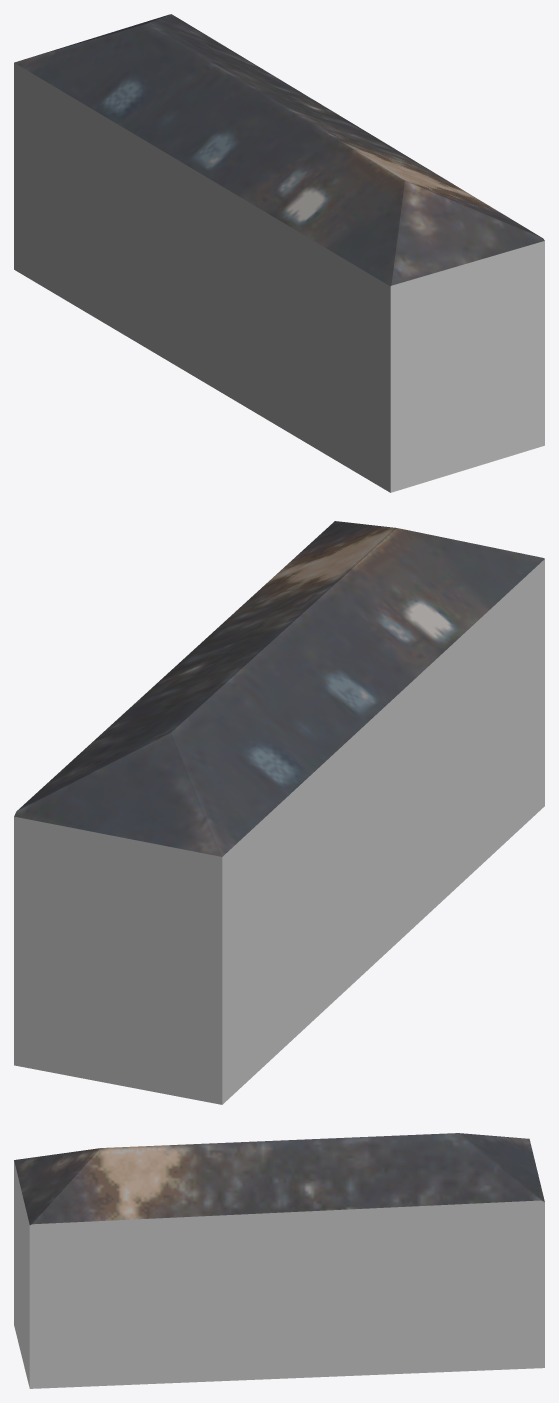
The model's file is DEBW_0010007Tx74.gltf.
3 views of the same model, one above another, from view 1: azimuth 30°, elevation 25°; view 2: azimuth 150°, elevation 25°; view 3: azimuth 270°, elevation 25° (orthographic). The views are drawn at different scales.
Visible parts, largest first — view 1: Z_UP; view 2: Z_UP; view 3: Z_UP.
Boxes of the visible parts, <box> form: Z_UP: <box>14,14,544,492</box>; Z_UP: <box>14,521,544,1104</box>; Z_UP: <box>14,1133,544,1388</box>.
Bounding box in the file's own units: 14.75 × 16.61 × 38.99.
2 materials, 1 textured.
